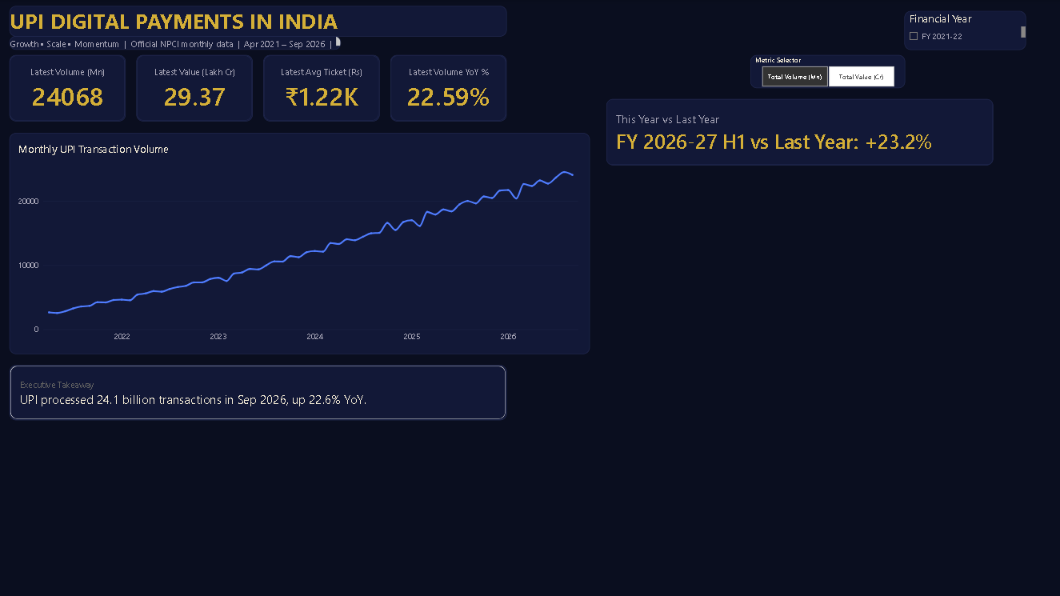

The page's visual inventory and layout, read from the dashboard file:
{"tool":"powerbi","page":{"name":"Executive Overview","canvas":[1920,1080],"ordinal":0},"visuals":[{"type":"cardVisual","fields":{"Data":["_Measures.Latest Volume (Mn)"]},"box":[20,100,210,120],"z":0},{"type":"cardVisual","fields":{"Data":["_Measures.Latest Value (Lakh Cr)"]},"box":[250,100,210,120],"z":1000},{"type":"cardVisual","fields":{"Data":["_Measures.Latest Avg Ticket (Rs)"]},"box":[480,100,210,120],"z":2000},{"type":"cardVisual","fields":{"Data":["_Measures.Latest Volume YoY %"]},"box":[710,100,210,120],"z":3000},{"type":"lineChart","fields":{"Category":["DimDate.Date"],"Y":["_Measures.Total Volume (Mn)"]},"box":[20,240,1050,400],"z":4000},{"type":"cardVisual","fields":{"Data":["_Measures.Executive Takeaway"]},"box":[20,660,900,100],"z":5000},{"type":"slicer","fields":{"Values":["DimDate.Financial Year"]},"box":[1640,20,220,70],"z":6000},{"type":"textbox","box":[20,10,900,55],"z":7000},{"type":"textbox","box":[20,65,600,25],"z":8000},{"type":"slicer","fields":{"Values":["Metric Selector.Metric Selector"]},"box":[1360,100,280,60],"z":9000},{"type":"cardVisual","fields":{"Data":["_Measures.This Year vs Last Year"]},"box":[1100,180,700,120],"z":10000}]}

Visuals, with their boxes in screenshot pixels (x1, y1, x2, y2), scaled from the page's 1920x1080 canvas onto the 1060x596 screenshot:
cardVisual - _Measures.Latest Volume (Mn): {"x1": 11, "y1": 55, "x2": 127, "y2": 121}
cardVisual - _Measures.Latest Value (Lakh Cr): {"x1": 138, "y1": 55, "x2": 254, "y2": 121}
cardVisual - _Measures.Latest Avg Ticket (Rs): {"x1": 265, "y1": 55, "x2": 381, "y2": 121}
cardVisual - _Measures.Latest Volume YoY %: {"x1": 392, "y1": 55, "x2": 508, "y2": 121}
lineChart - DimDate.Date x _Measures.Total Volume (Mn): {"x1": 11, "y1": 132, "x2": 591, "y2": 353}
cardVisual - _Measures.Executive Takeaway: {"x1": 11, "y1": 364, "x2": 508, "y2": 419}
slicer - DimDate.Financial Year: {"x1": 905, "y1": 11, "x2": 1027, "y2": 50}
textbox: {"x1": 11, "y1": 6, "x2": 508, "y2": 36}
textbox: {"x1": 11, "y1": 36, "x2": 342, "y2": 50}
slicer - Metric Selector.Metric Selector: {"x1": 751, "y1": 55, "x2": 905, "y2": 88}
cardVisual - _Measures.This Year vs Last Year: {"x1": 607, "y1": 99, "x2": 994, "y2": 166}
